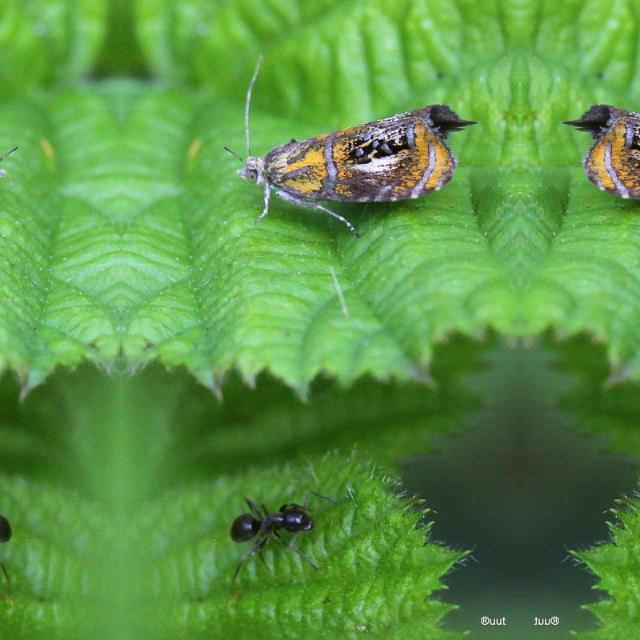Lasius: (220, 501, 332, 569)
